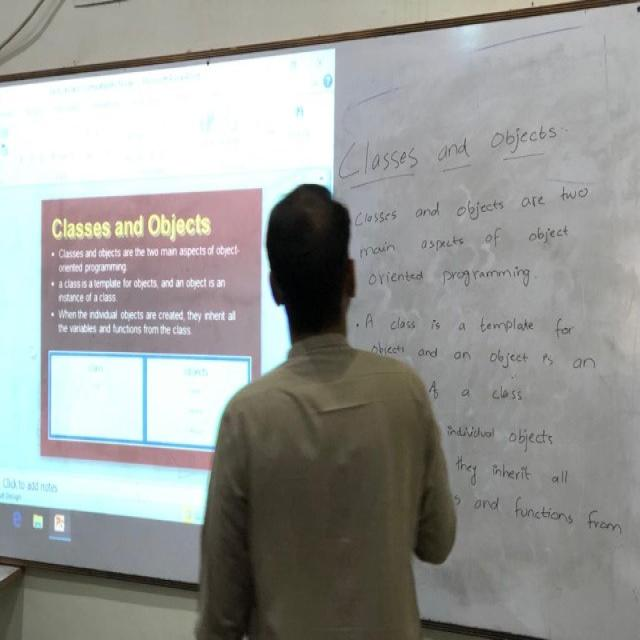Instructor: (222, 189, 403, 640)
Slide: (0, 47, 334, 595)
White-board: (0, 0, 640, 640)
